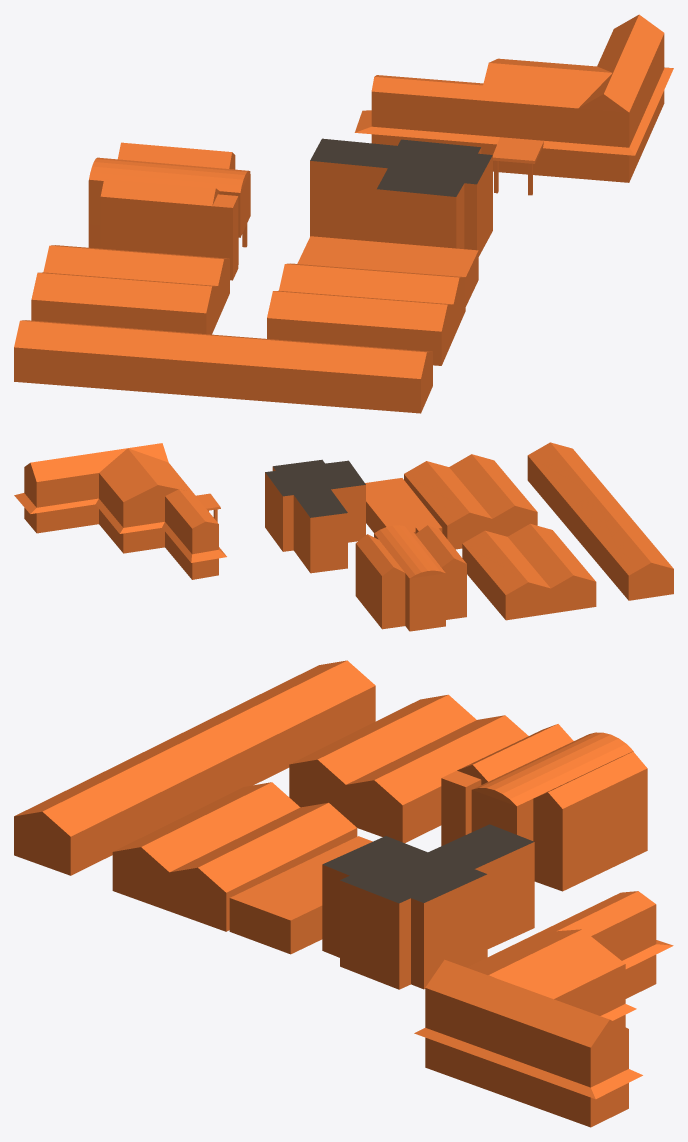
Rendered from Electrical_Labs_&_Off_Shore_Civil_Engineering_Lab.obj.
The picture shows the model from 3 angles, top to bottom: view 1: azimuth 30°, elevation 25°; view 2: azimuth 150°, elevation 25°; view 3: azimuth 270°, elevation 25°; orthographic projection. The views are drawn at different scales.
Visible parts, largest first — view 1: map.osm_buildings.019, Lab_1, map.osm_buildings.016, Electrical_PG_block, TE_&_SM_LAB, Electrical_Lab, lab_2; view 2: map.osm_buildings.019, Lab_1, Electrical_PG_block, map.osm_buildings.016, Electrical_Lab, TE_&_SM_LAB, lab_2; view 3: map.osm_buildings.019, Lab_1, map.osm_buildings.016, Electrical_PG_block, TE_&_SM_LAB, Electrical_Lab, lab_2.
Part boxes in pixels (x1,y1,x2,y2): map.osm_buildings.019: (354,14,673,195); Lab_1: (14,320,432,413); map.osm_buildings.016: (310,138,492,256); Electrical_PG_block: (88,142,250,280); TE_&_SM_LAB: (267,263,465,365); Electrical_Lab: (31,245,229,334); lab_2: (297,236,478,306); map.osm_buildings.019: (14,443,226,579); Lab_1: (527,442,673,600); Electrical_PG_block: (355,524,466,631); map.osm_buildings.016: (265,459,365,573); Electrical_Lab: (462,523,596,620); TE_&_SM_LAB: (404,454,537,549); lab_2: (365,478,442,533); map.osm_buildings.019: (414,891,673,1127); Lab_1: (14,660,375,875); map.osm_buildings.016: (322,824,534,989); Electrical_PG_block: (441,724,647,891); TE_&_SM_LAB: (112,782,357,931); Electrical_Lab: (289,694,528,843); lab_2: (229,836,372,954).
Size of the model in its own units: 192 by 22.54 by 123.
